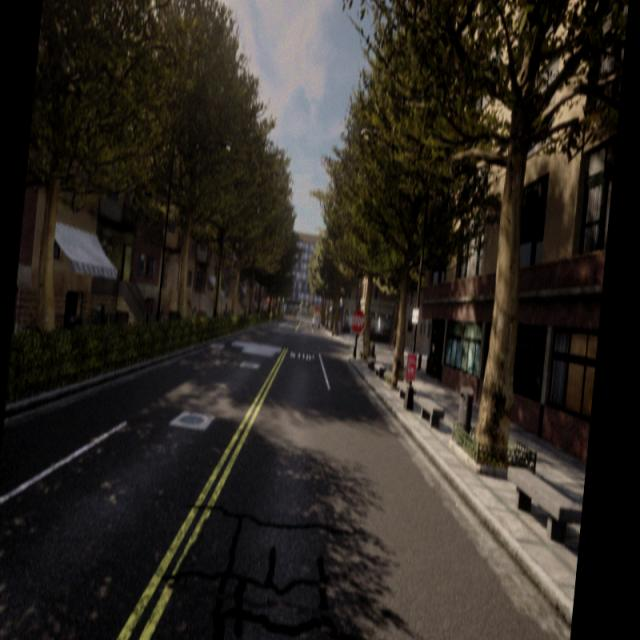stop sign: (347, 305, 367, 360), (348, 307, 366, 335)
